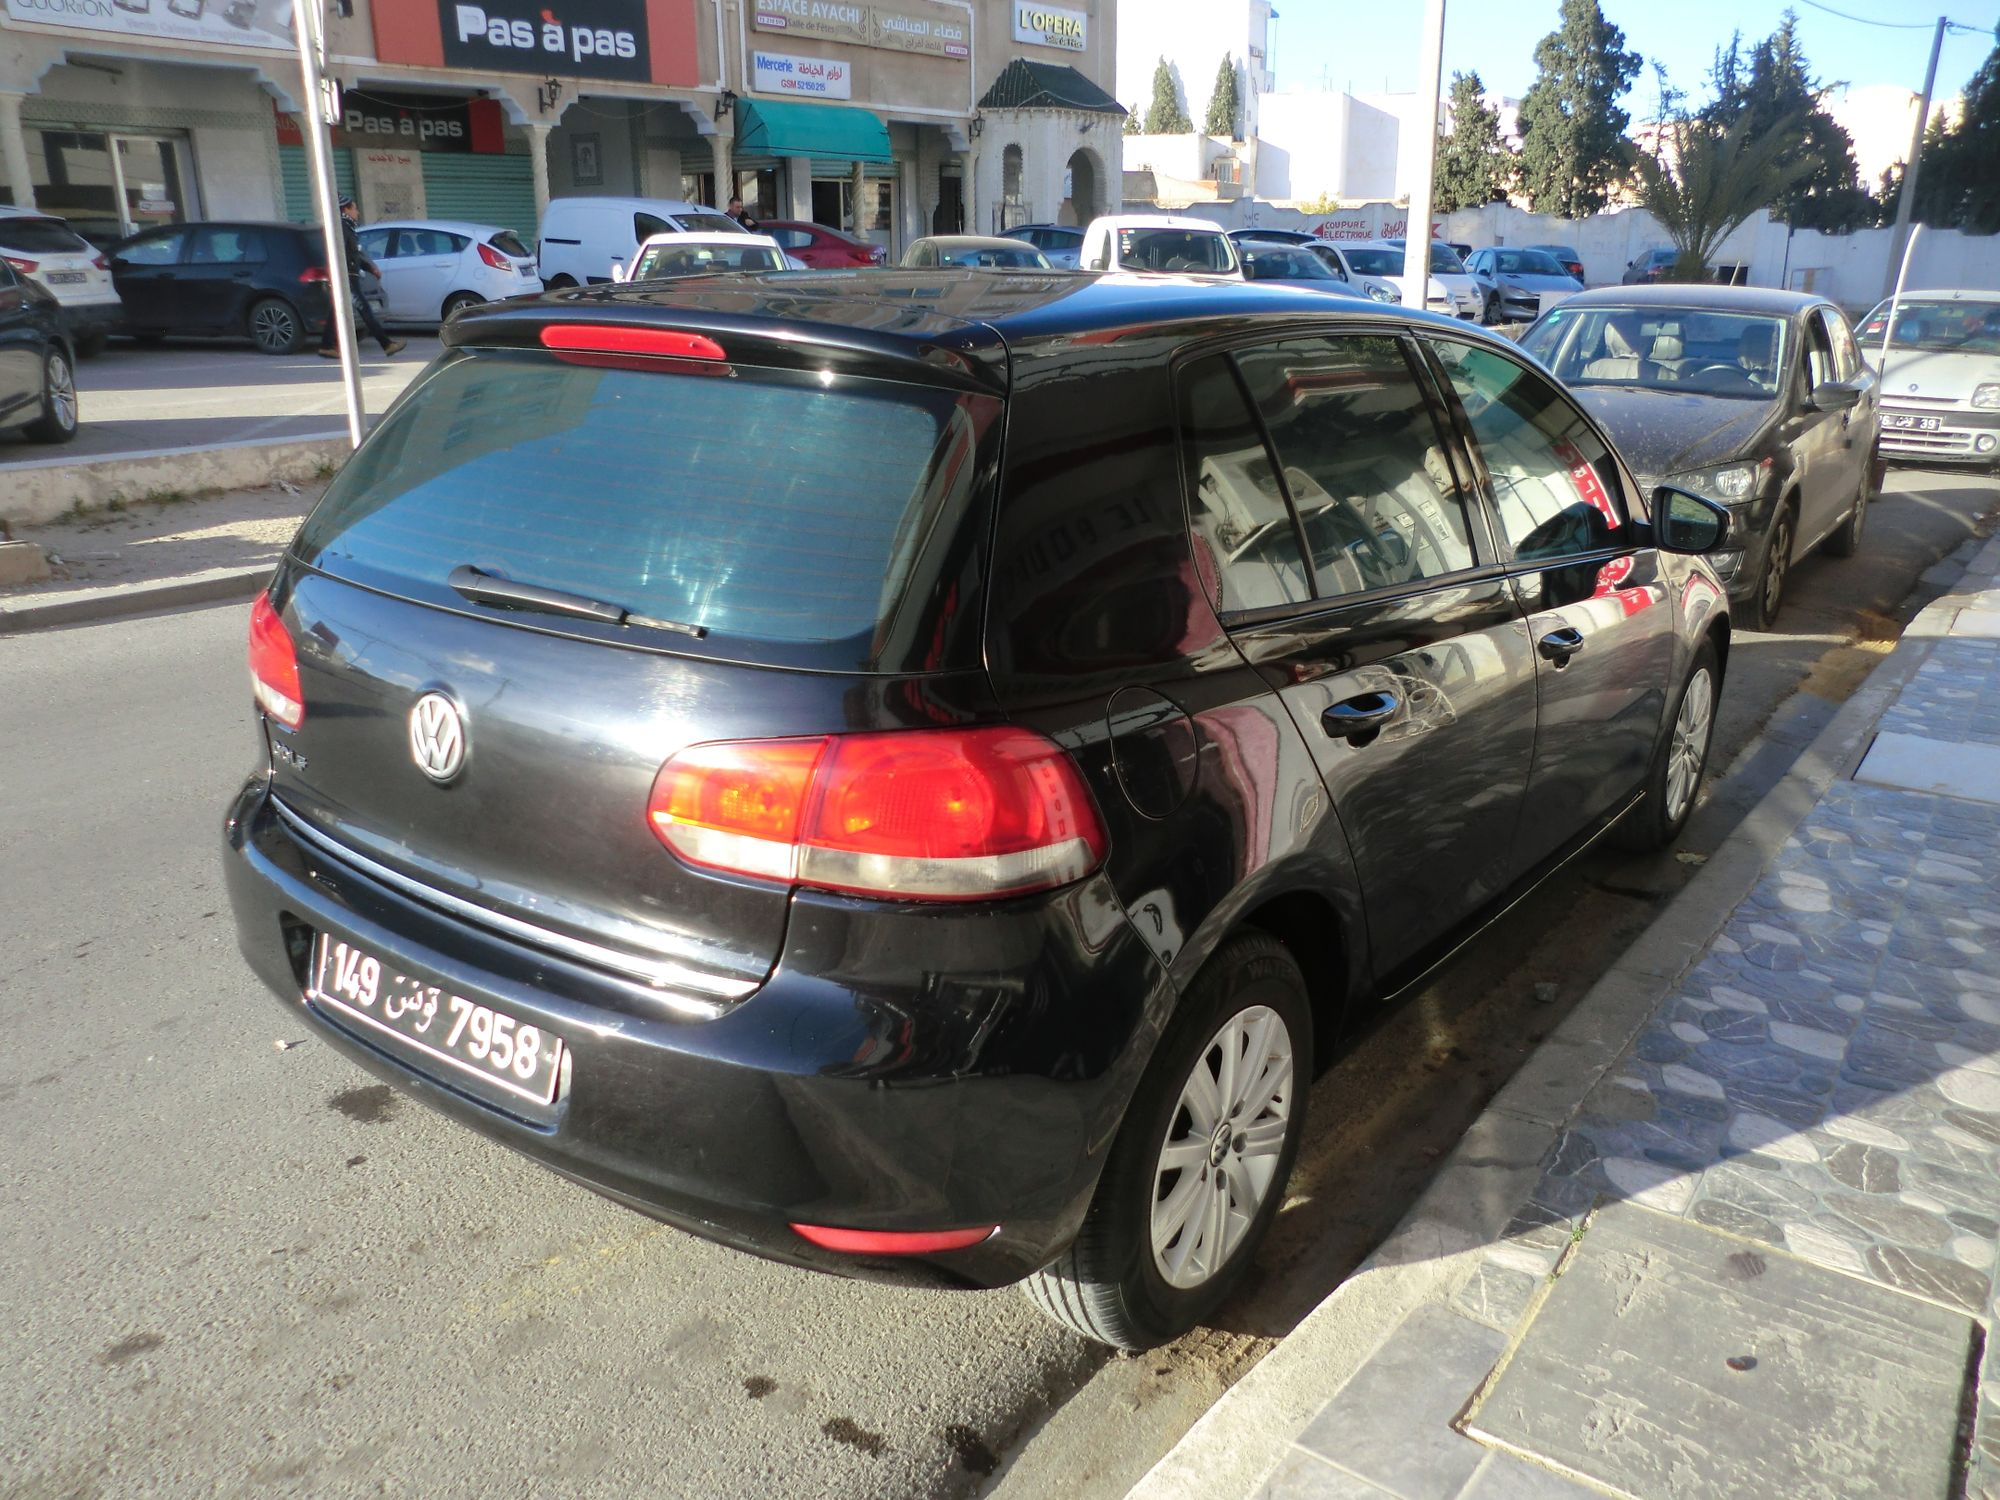LP: (313, 930, 568, 1102)
